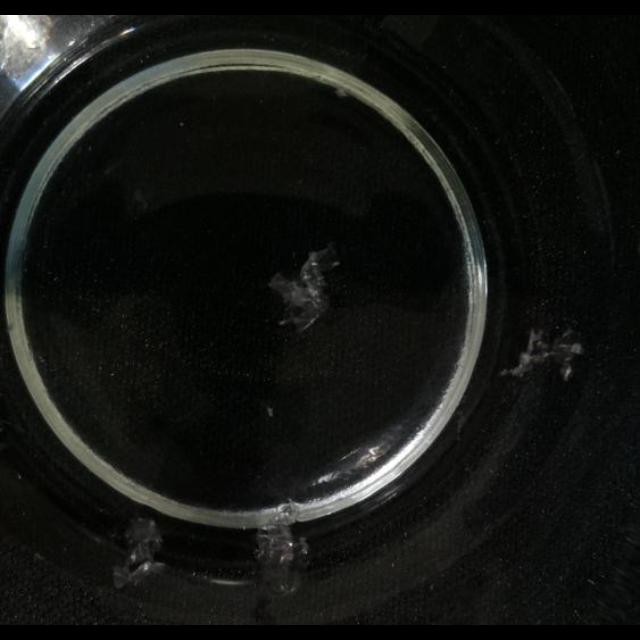Fibre: (502, 325, 584, 379), (254, 516, 308, 598), (111, 520, 165, 592), (334, 86, 350, 98)
Fragment: (268, 242, 342, 334)
